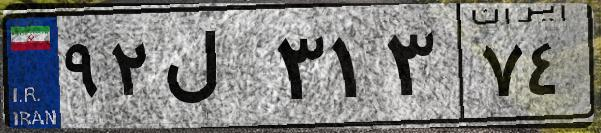1: (330, 28, 385, 110)
2: (110, 28, 158, 98)
3: (270, 28, 330, 110), (385, 28, 445, 110)
4: (525, 38, 570, 115)
7: (475, 38, 525, 113)
9: (57, 26, 110, 100)
ل: (158, 20, 270, 120)
